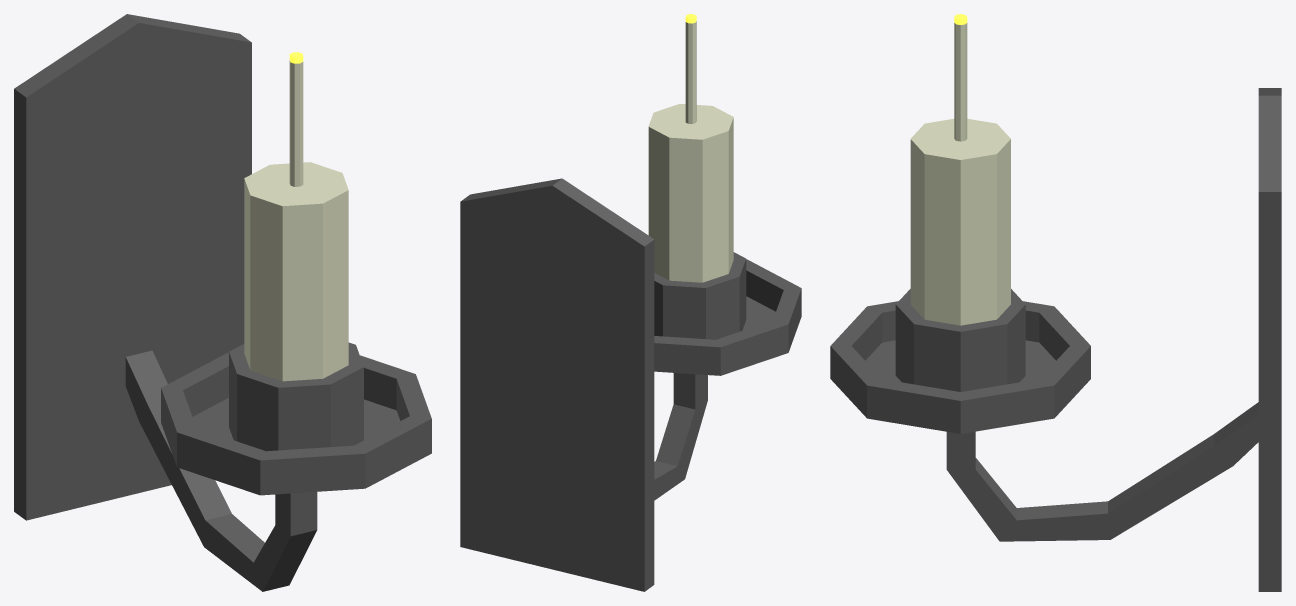
File: Candle.fbx
The picture shows the model from 3 angles, left to right: view 1: azimuth 30°, elevation 25°; view 2: azimuth 150°, elevation 25°; view 3: azimuth 270°, elevation 25°; orthographic projection. The views are drawn at different scales.
Visible parts, largest first — view 1: Cube.012, Cube.011; view 2: Cube.012, Cube.011; view 3: Cube.011, Cube.012.
Part boxes in pixels (bbox=[...]): Cube.012: bbox=[14, 14, 317, 591]; Cube.011: bbox=[161, 52, 431, 495]; Cube.012: bbox=[460, 178, 707, 591]; Cube.011: bbox=[648, 14, 801, 375]; Cube.011: bbox=[830, 14, 1090, 433]; Cube.012: bbox=[946, 88, 1281, 591].
Bounding box in the file's own units: 105 × 233 × 182.
